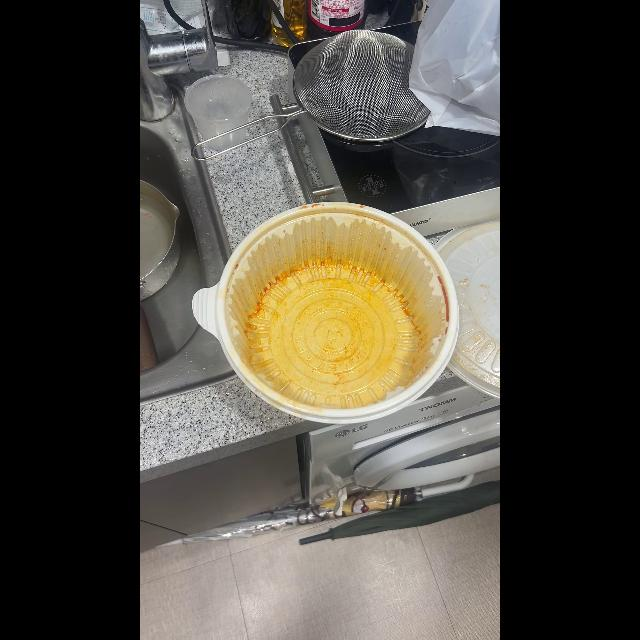dirty: (221, 204, 455, 412)
